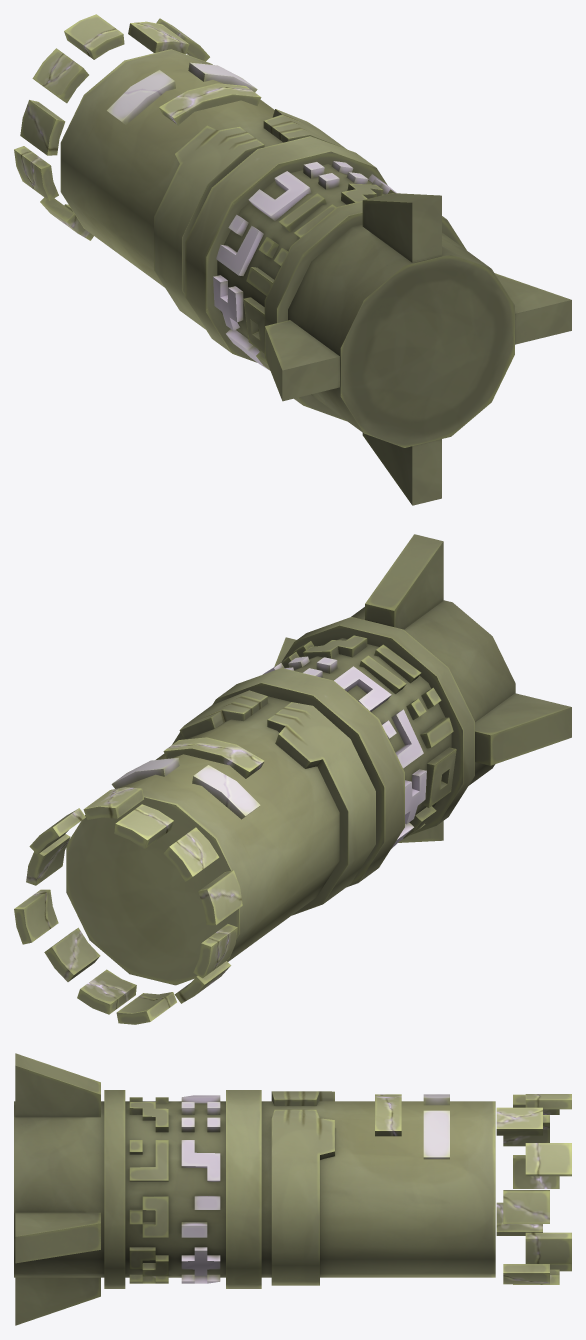
File: Totem_Ice.FBX
3 renders of one model, top to bottom at view 1: azimuth 30°, elevation 25°; view 2: azimuth 150°, elevation 25°; view 3: azimuth 270°, elevation 25°, orthographic. The views are drawn at different scales.
Parts seen in each view (by area): view 1: Totem_02; view 2: Totem_02; view 3: Totem_02.
Boxes of the visible parts, box(x1,y1,x2,y2) form: Totem_02: box(14, 14, 571, 505); Totem_02: box(14, 534, 571, 1024); Totem_02: box(14, 1053, 571, 1325).
Bounding box in the file's own units: 7.4 × 14.37 × 7.4.
